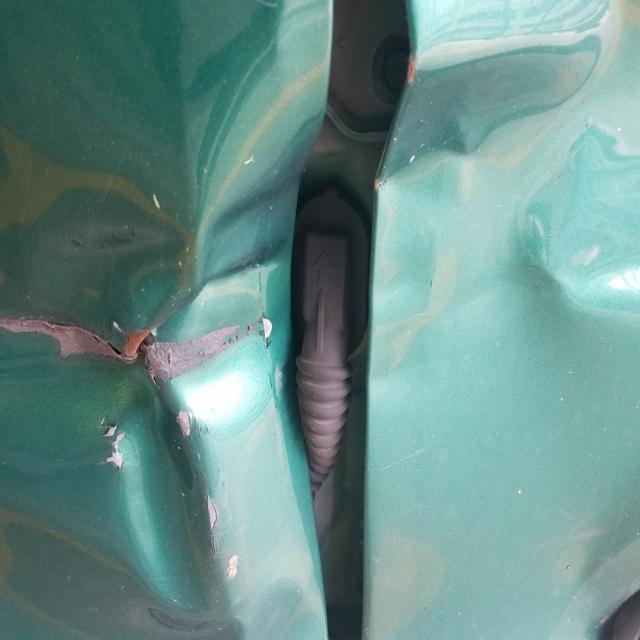Cabossage: (369, 13, 639, 375), (0, 173, 192, 393), (194, 0, 331, 296), (105, 377, 230, 616)
Dechirure: (293, 0, 419, 640)
Rayure: (3, 302, 254, 413), (173, 400, 245, 583), (94, 410, 130, 478)
